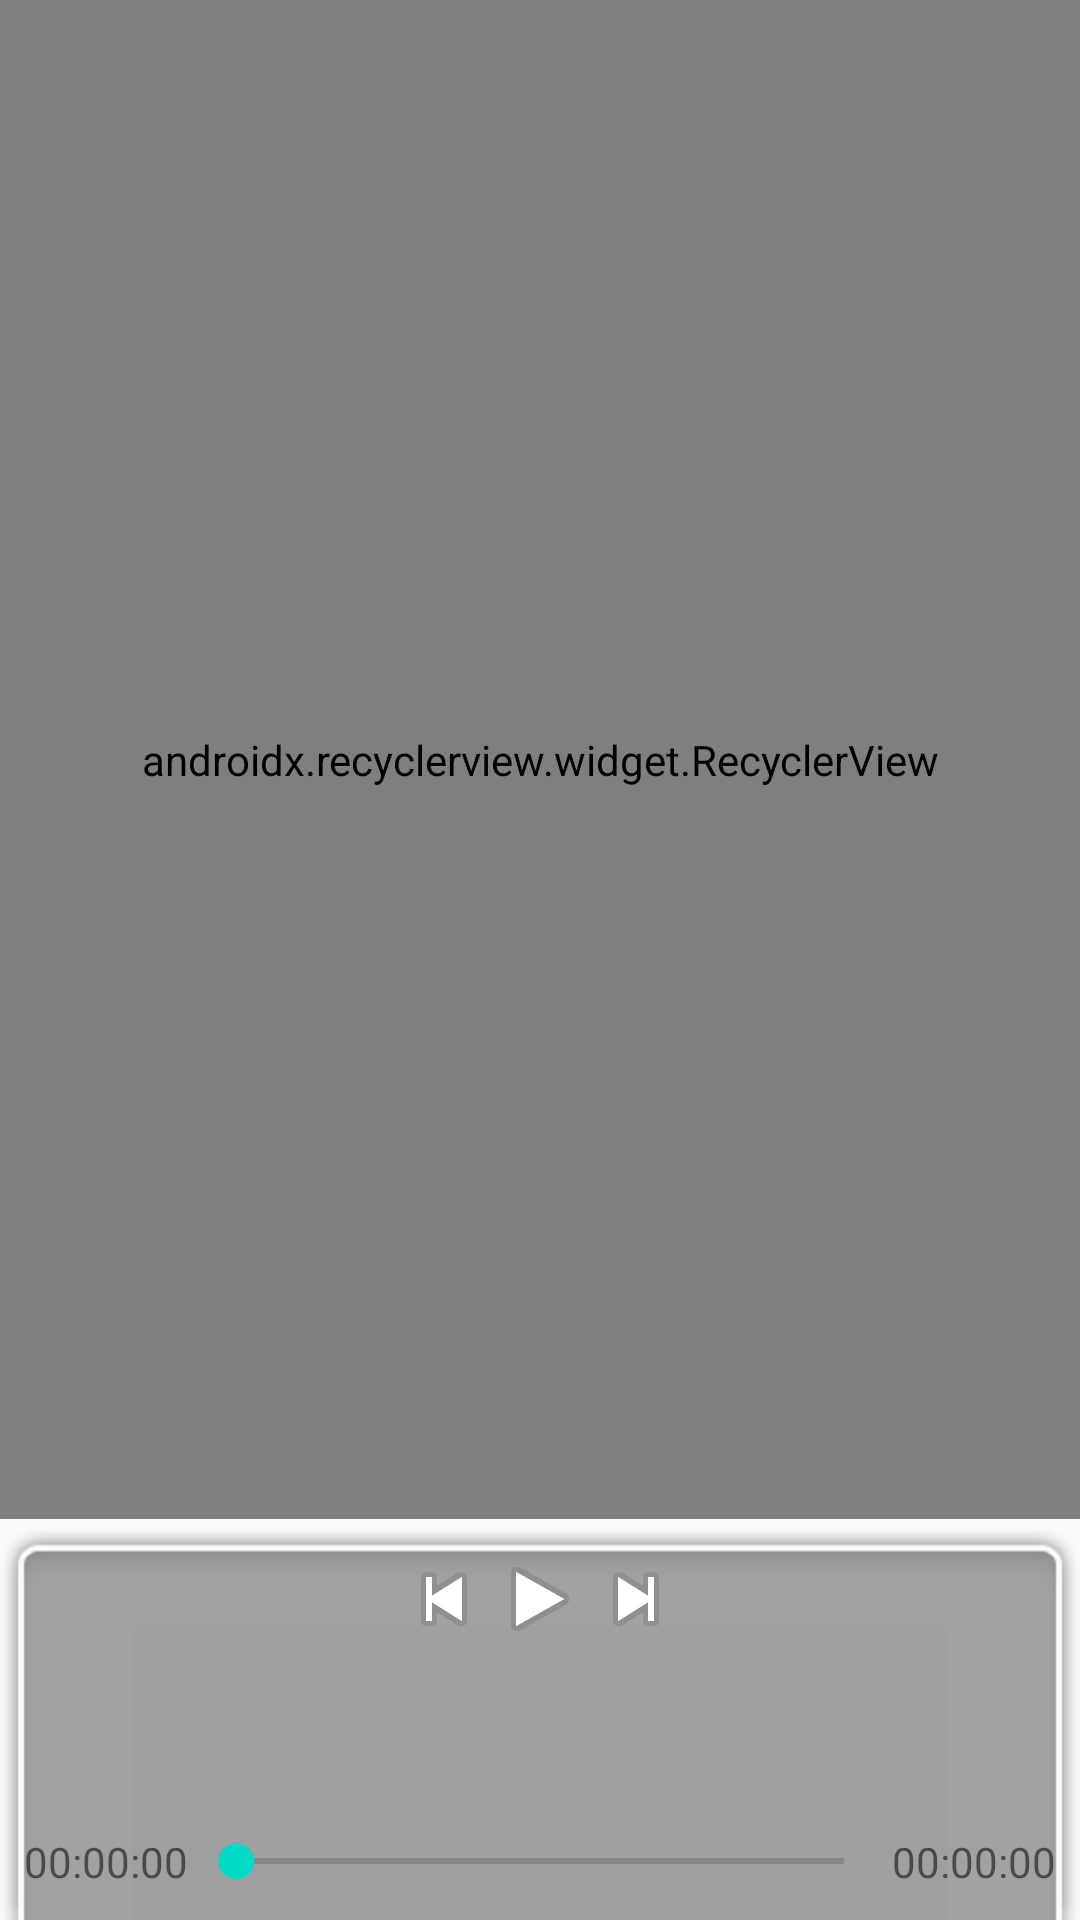

Screen size 1080px×1920px. Icon name, then its box in pixels as (x1, y1, x2, y2):
next: (618, 1577, 654, 1621)
play: (516, 1572, 564, 1626)
previous: (426, 1577, 462, 1621)
